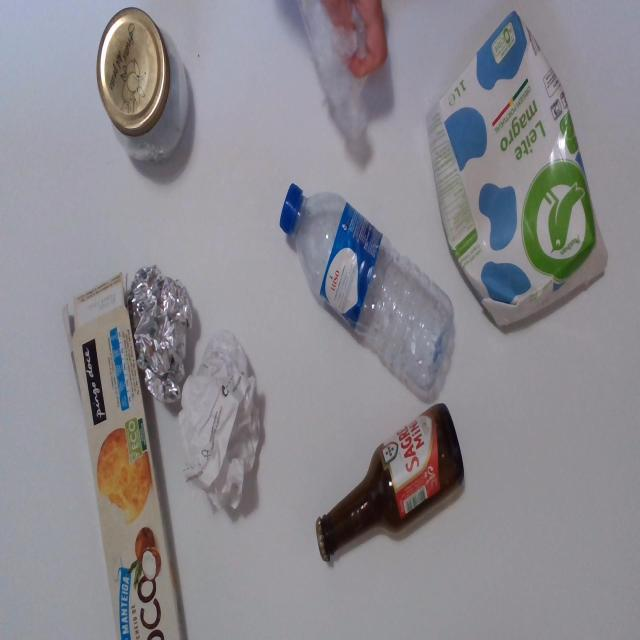Cardboard: (63, 276, 183, 640)
Glass: (320, 399, 465, 566)
Paper: (182, 338, 265, 515)
Plastic: (278, 188, 454, 404)
